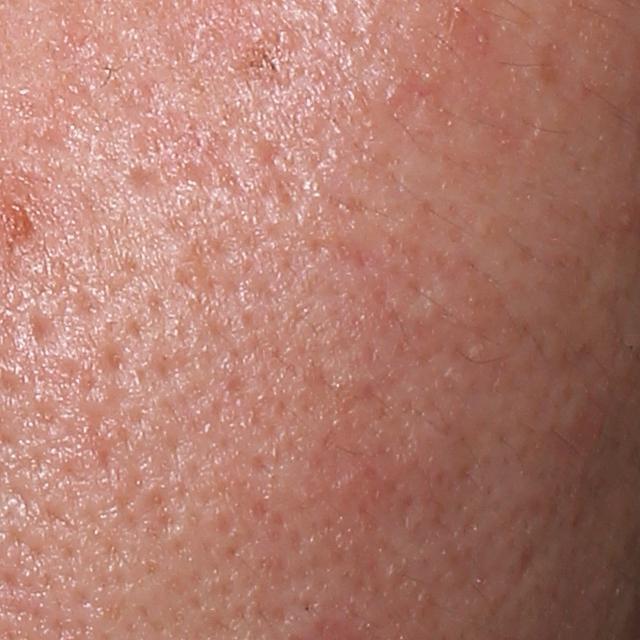atrophic_scar: (255, 140, 310, 214), (101, 337, 139, 385), (123, 165, 169, 198), (28, 311, 55, 347)
